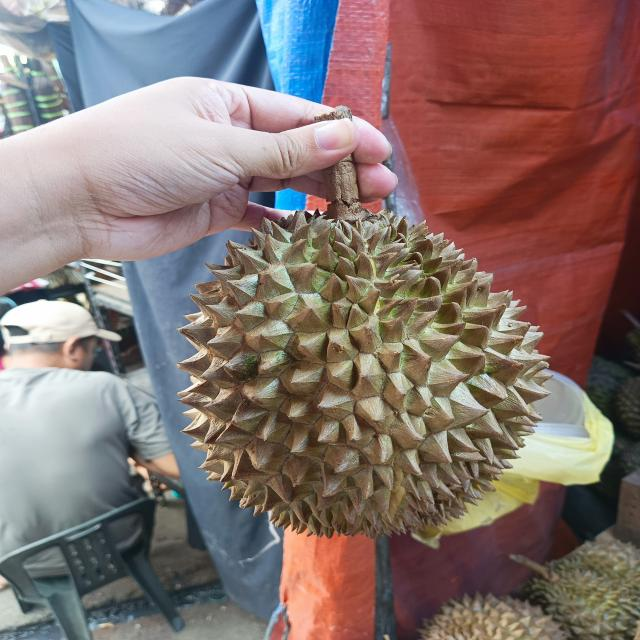mature: (178, 157, 552, 538)
